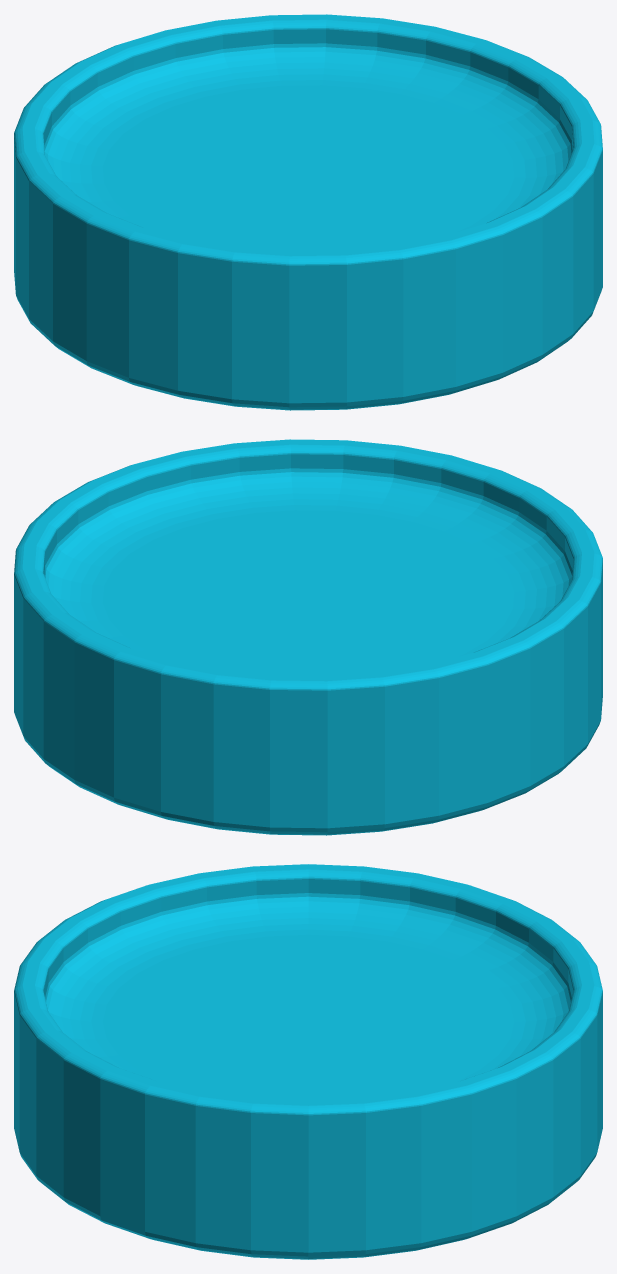
Rendered from Puck.fbx.
3 renders of one model, top to bottom at view 1: azimuth 30°, elevation 25°; view 2: azimuth 150°, elevation 25°; view 3: azimuth 270°, elevation 25°, orthographic.
Visible parts, largest first — view 1: Ground; view 2: Ground; view 3: Ground.
Part boxes in pixels (bbox=[...]): Ground: bbox=[14, 14, 602, 410]; Ground: bbox=[14, 439, 602, 835]; Ground: bbox=[14, 864, 602, 1259].
Size of the model in its own units: 400 by 125 by 400.
